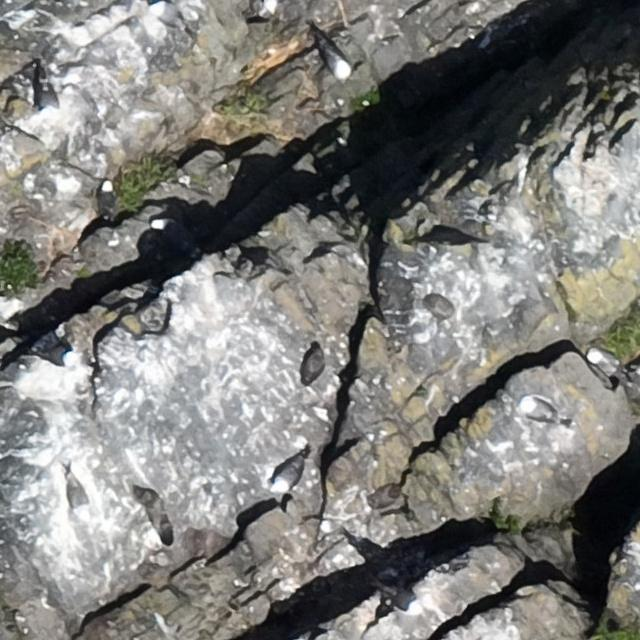umineko: (150, 220, 199, 258), (66, 471, 91, 524), (520, 397, 565, 426), (383, 584, 421, 616), (274, 461, 298, 490), (41, 83, 58, 116), (589, 349, 616, 369), (153, 4, 179, 24), (328, 52, 348, 78), (41, 348, 73, 364), (99, 182, 113, 210)
